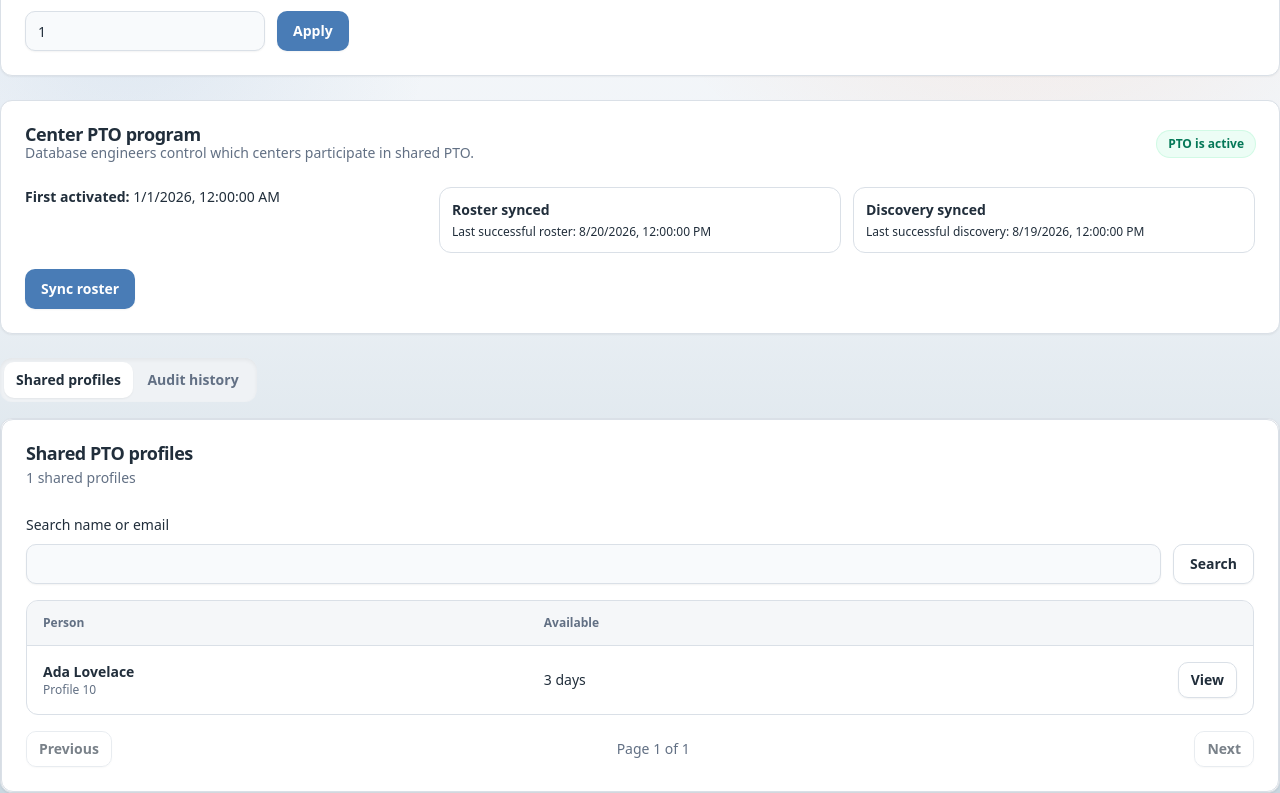
PTO management › previews an account link before confirmation and replaces the profile from the mutation response
(page scrolled)
Expected: the text "Ada Lovelace" is shown, [43, 662, 134, 680]
Click the button with aria-label "View Ada Lovelace": (1207, 680) [1178, 662, 1237, 698]
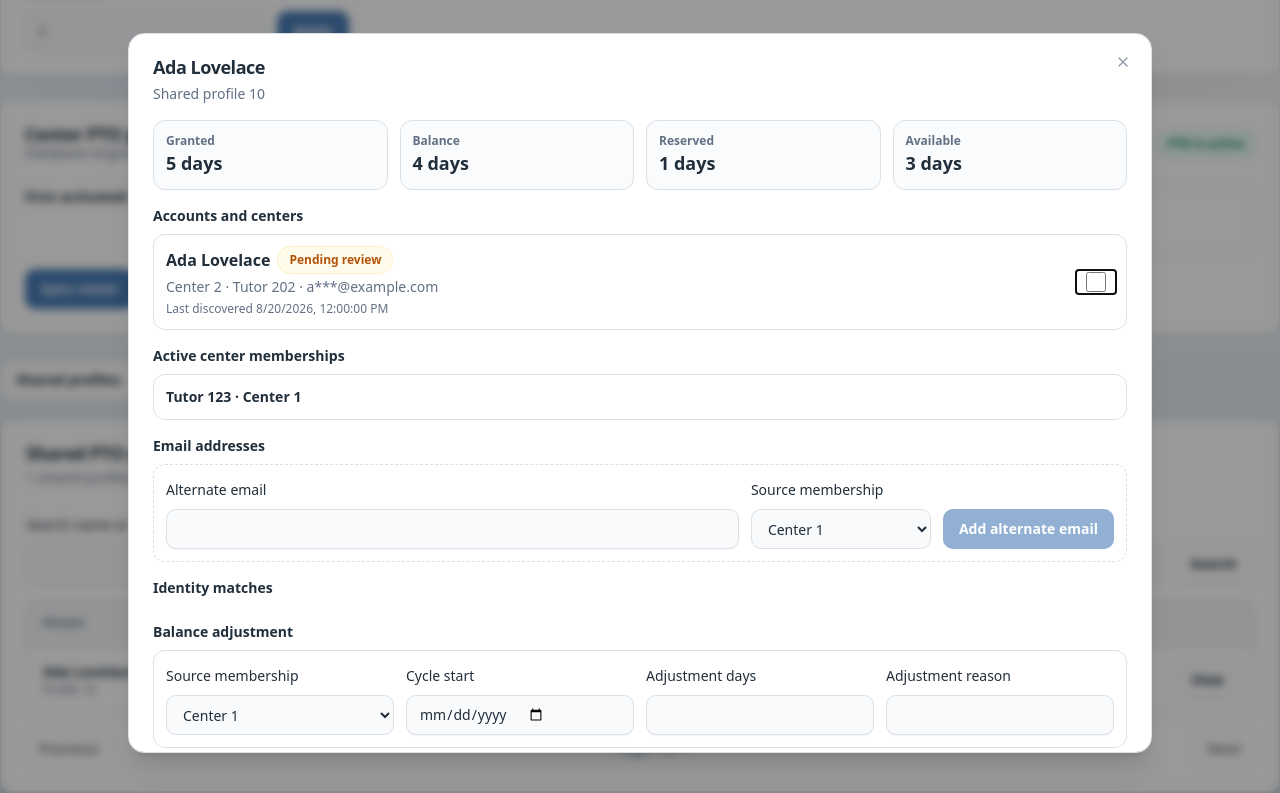
Click the switch named "Pending review account Center 2 tutor 202": (1096, 282) [1078, 272, 1114, 292]
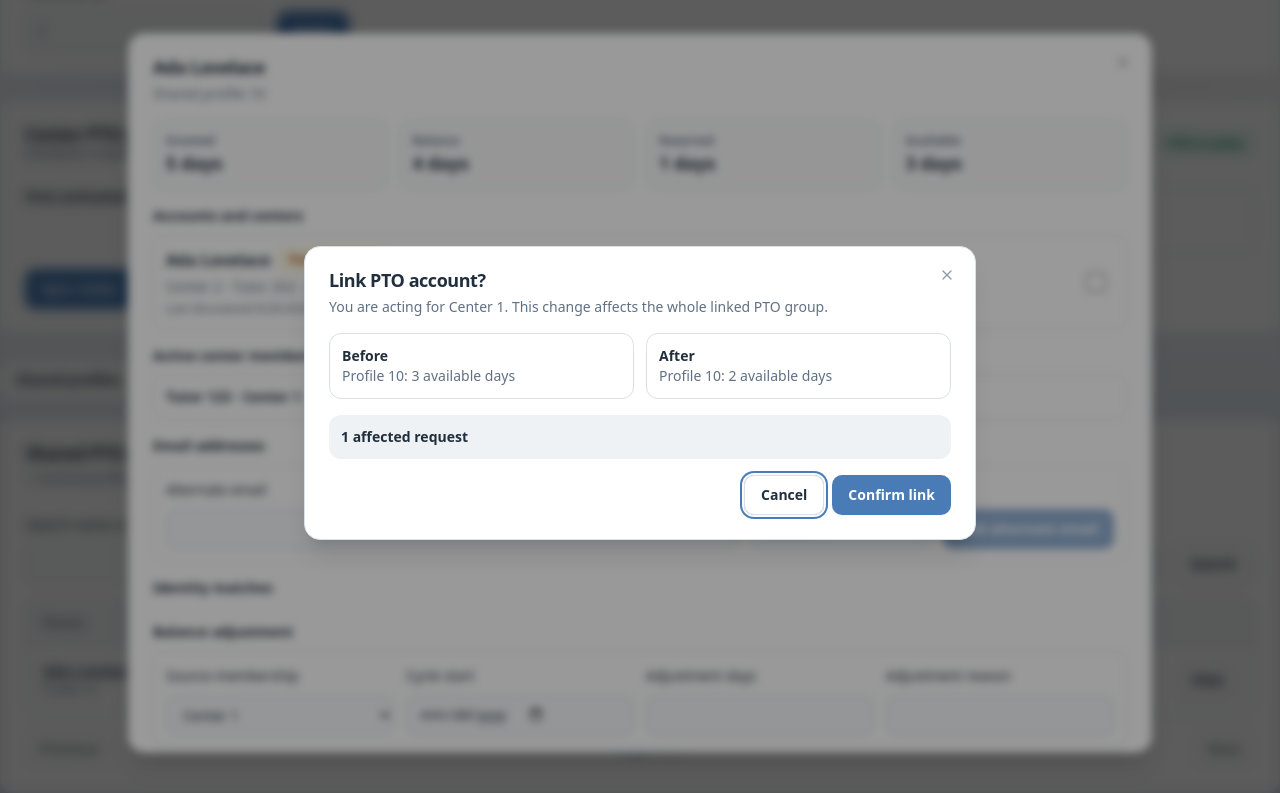
Now the heading "Link PTO account?" is shown, box [329, 268, 486, 292]
Click the button "Confirm link": (892, 495) [832, 475, 951, 515]
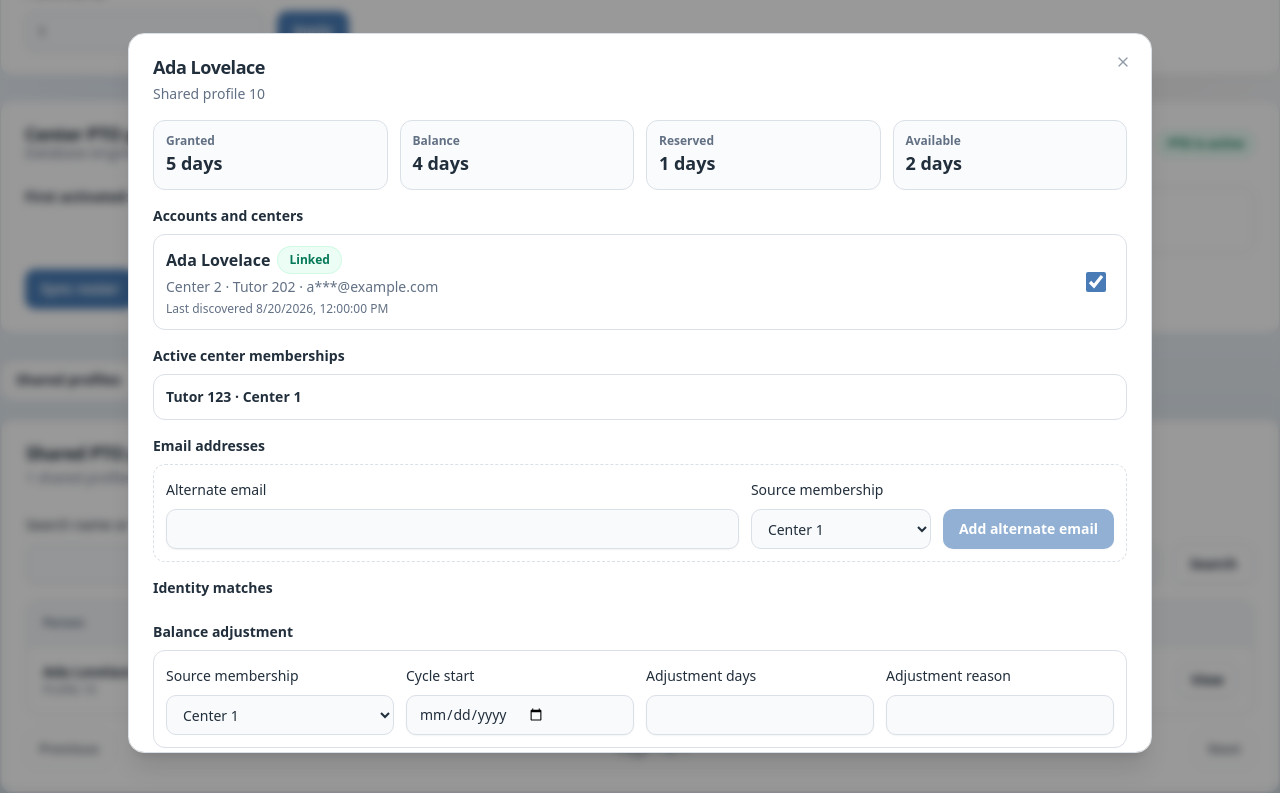
Now the switch named "Linked account Center 2 tutor 202" is checked, box [1078, 272, 1114, 292]
Now the text "2 days" is shown, box [906, 151, 962, 175]
